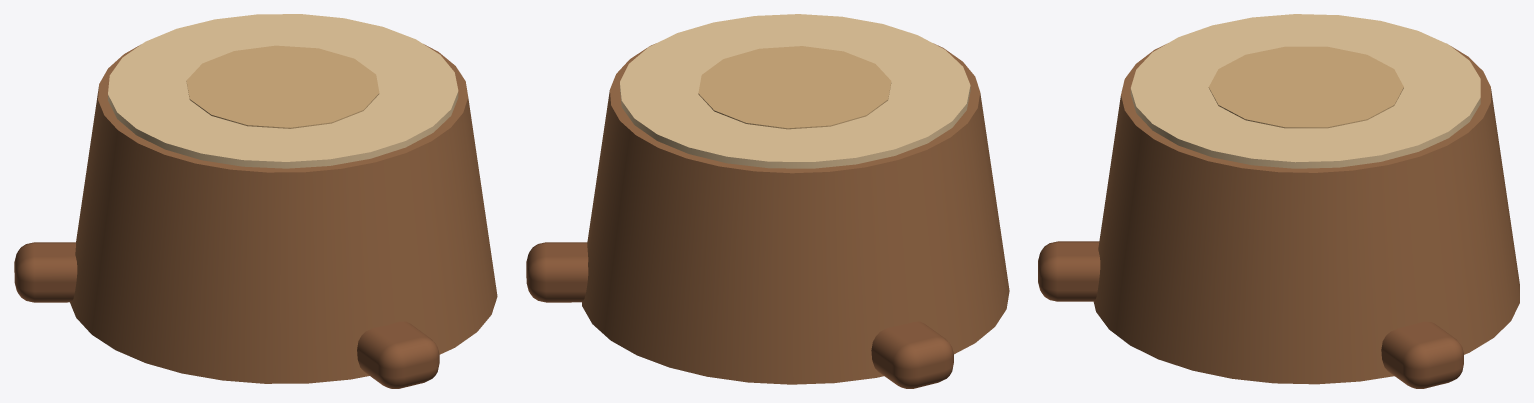
Rendered from stump.glb.
3 views of the same model, side by side, from view 1: azimuth 30°, elevation 25°; view 2: azimuth 150°, elevation 25°; view 3: azimuth 270°, elevation 25° (orthographic).
Size of the model in its own units: 0.9945 by 0.4675 by 0.9877.
